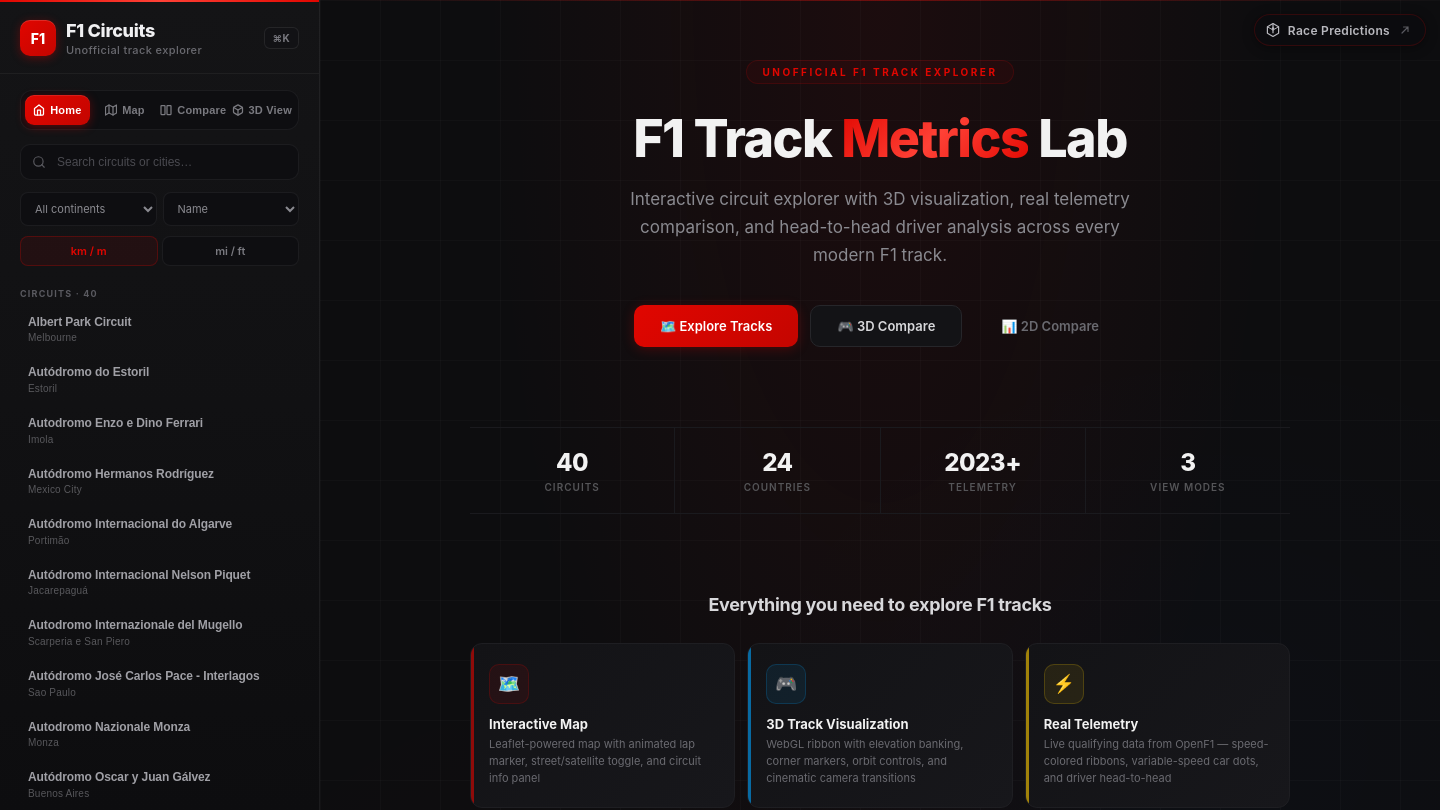
Test: App › search filters circuits
This screenshot has width=1440, height=810.
Expected: the text "Albert Park Circuit" is shown, x1=28 y1=315 x2=132 y2=330
Step 1. Type "Monaco" into the field with placeholder "Search circuits or cities…" → (160, 162), box x1=20 y1=144 x2=299 y2=180
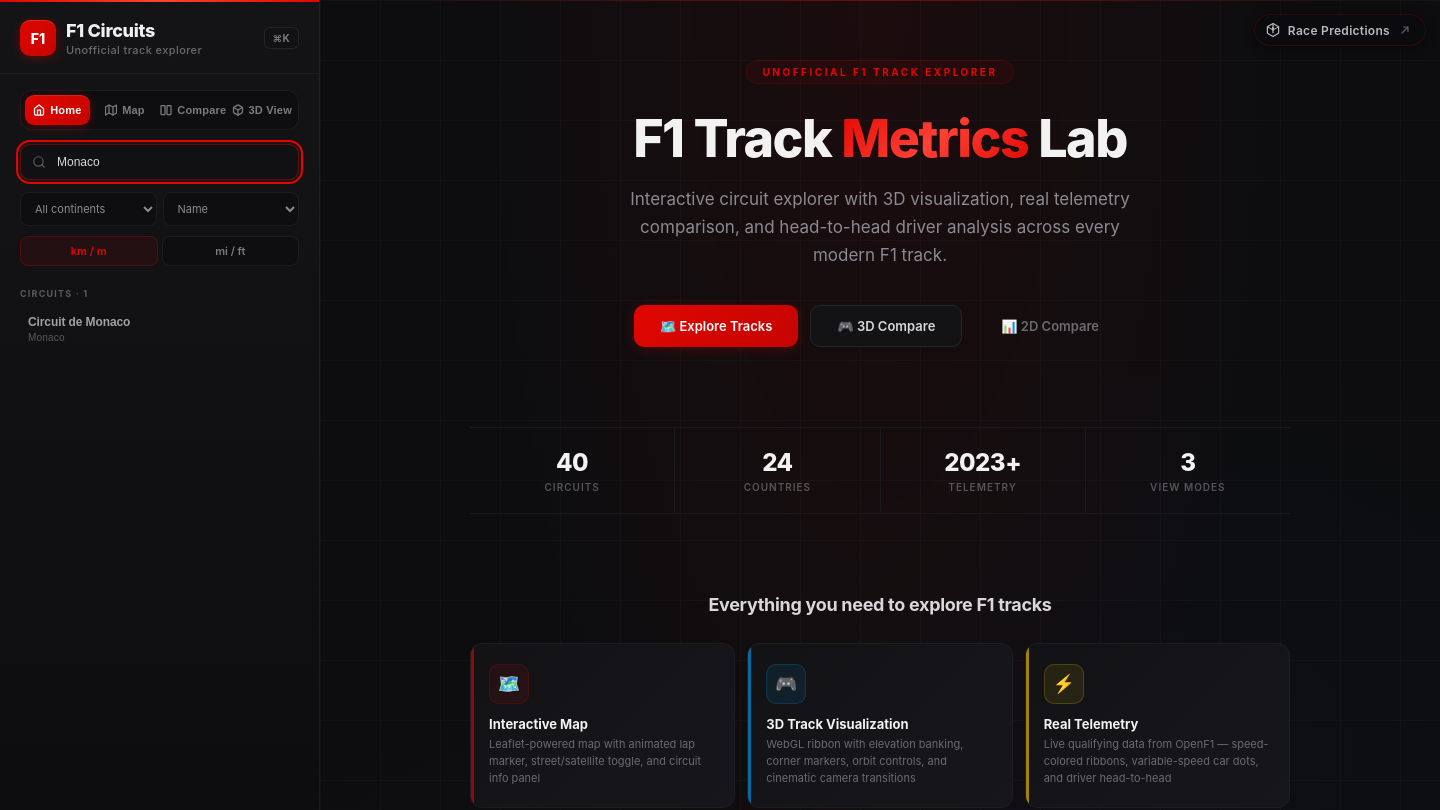
Result: the button "Albert Park Circuit" is gone
Result: the text "Circuit de Monaco" is shown at x1=28 y1=315 x2=130 y2=330
